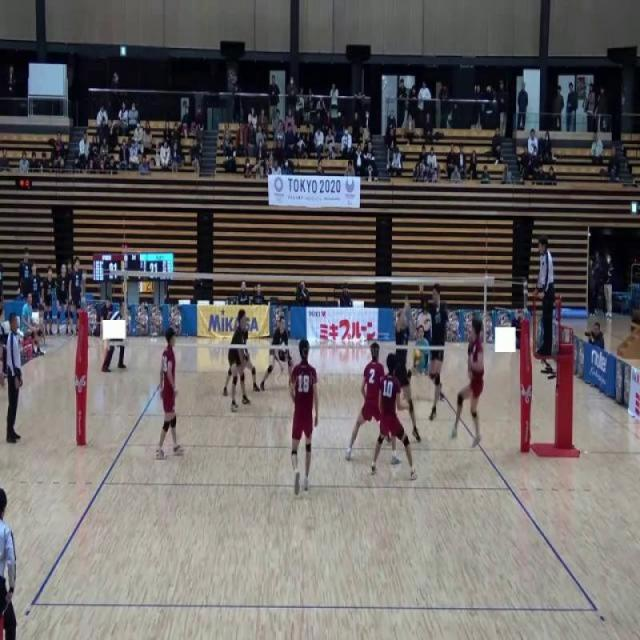volleyball: (412, 348, 421, 365)
